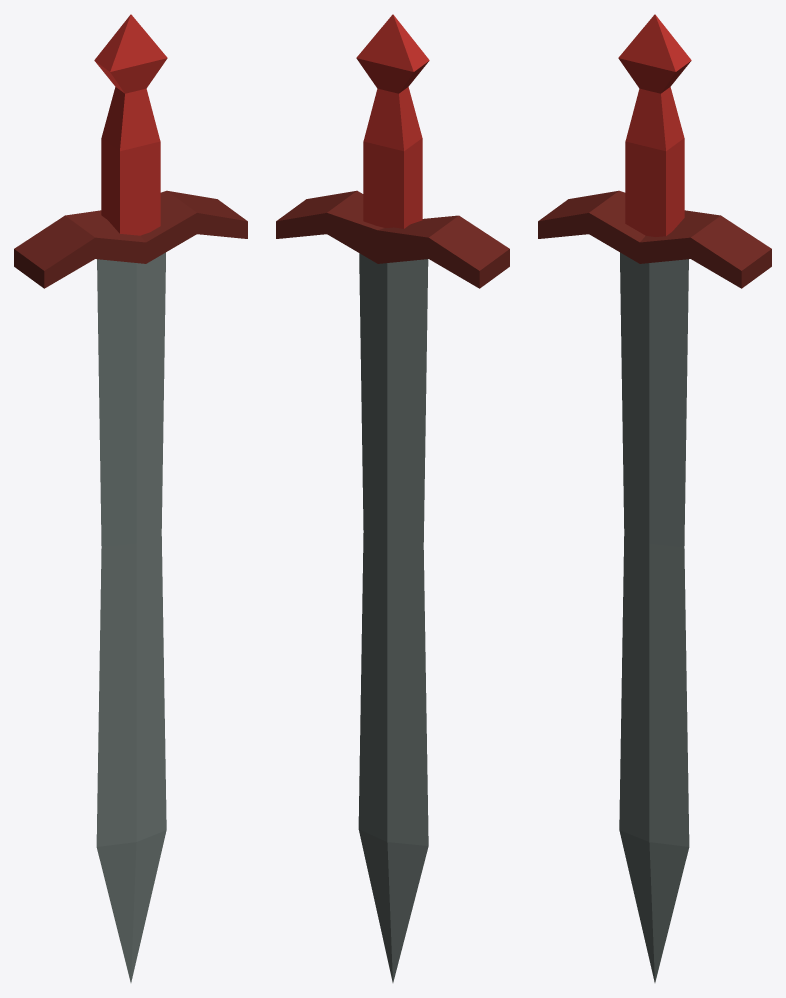
The model's file is Sword_3_Red.fbx.
3 renders of one model, left to right at view 1: azimuth 30°, elevation 25°; view 2: azimuth 150°, elevation 25°; view 3: azimuth 330°, elevation 25°, orthographic.
Visible parts, largest first — view 1: Sword_3_Red_Part_1, Sword_3_Red_Part_3, Sword_3_Red_Part_2; view 2: Sword_3_Red_Part_1, Sword_3_Red_Part_3, Sword_3_Red_Part_2; view 3: Sword_3_Red_Part_1, Sword_3_Red_Part_3, Sword_3_Red_Part_2.
Part boxes in pixels (x1,y1,x2,y2): Sword_3_Red_Part_1: [96, 252, 166, 982]; Sword_3_Red_Part_3: [94, 14, 167, 235]; Sword_3_Red_Part_2: [14, 190, 247, 288]; Sword_3_Red_Part_1: [358, 253, 428, 982]; Sword_3_Red_Part_3: [356, 14, 429, 228]; Sword_3_Red_Part_2: [276, 190, 509, 288]; Sword_3_Red_Part_1: [619, 252, 689, 982]; Sword_3_Red_Part_3: [618, 14, 691, 236]; Sword_3_Red_Part_2: [538, 190, 771, 288].
Size of the model in its own units: 30.68 by 140 by 7.9.
